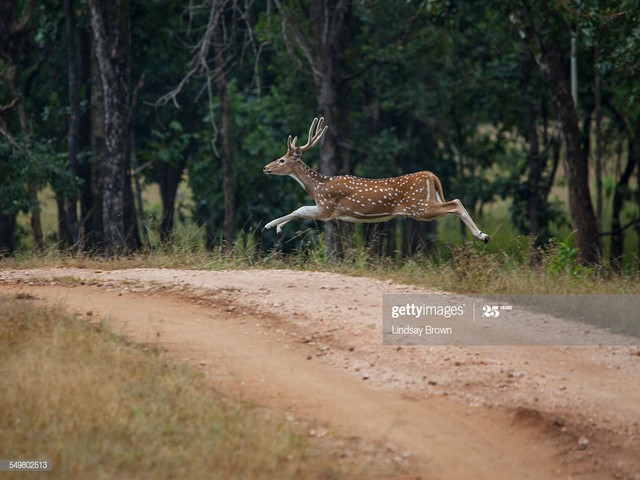deer: (245, 115, 512, 254)
